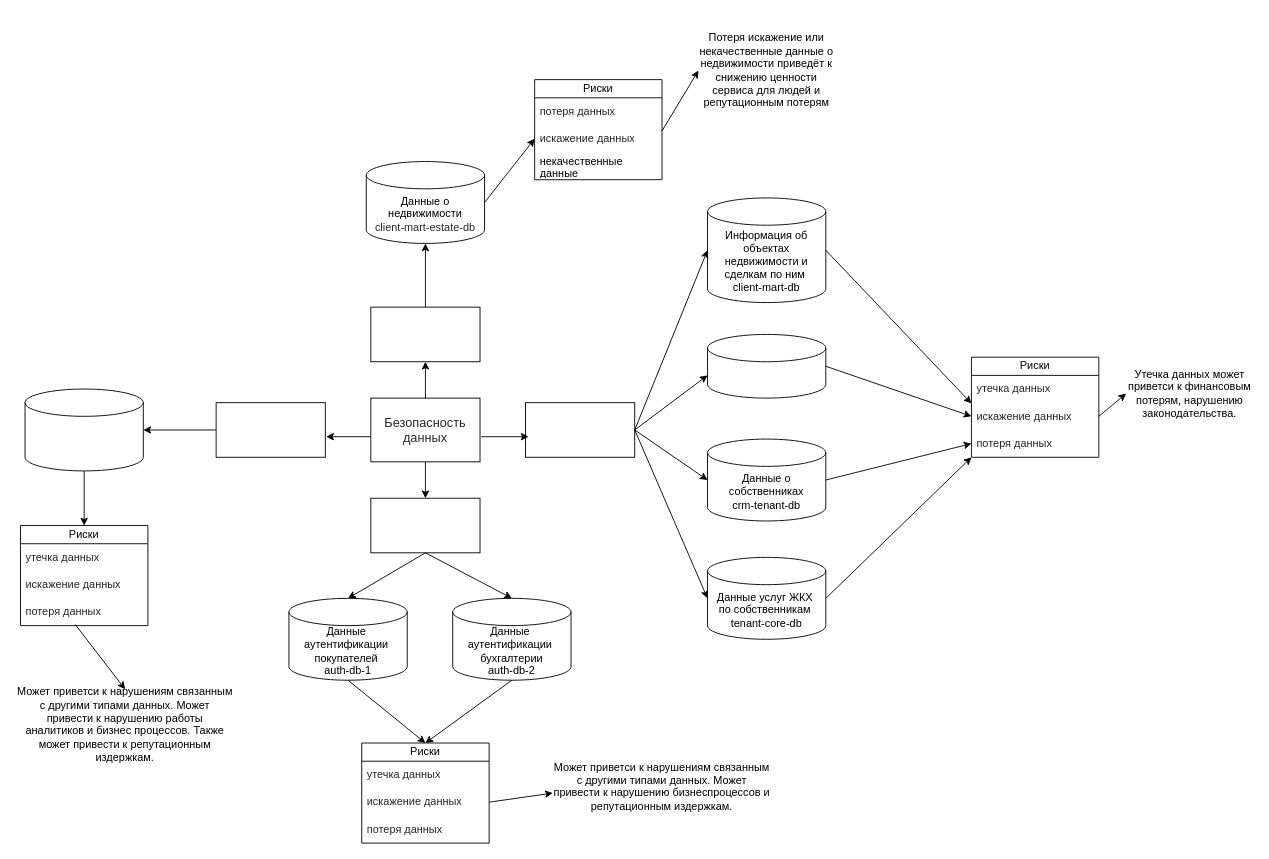
The diagram is 1269 pixels wide and 859 high, and some of its shapes have lost their labels. Here are the shapes that lost their labels. From the top down, the centre of each, then its label:
point (425, 334): публичные данные
point (766, 366): Клиентские данные client-crm-db
point (83, 429): DWH Хранилище
point (270, 429): внутренние данные
point (580, 429): конфиденциальные данные
point (425, 525): секретные данные
